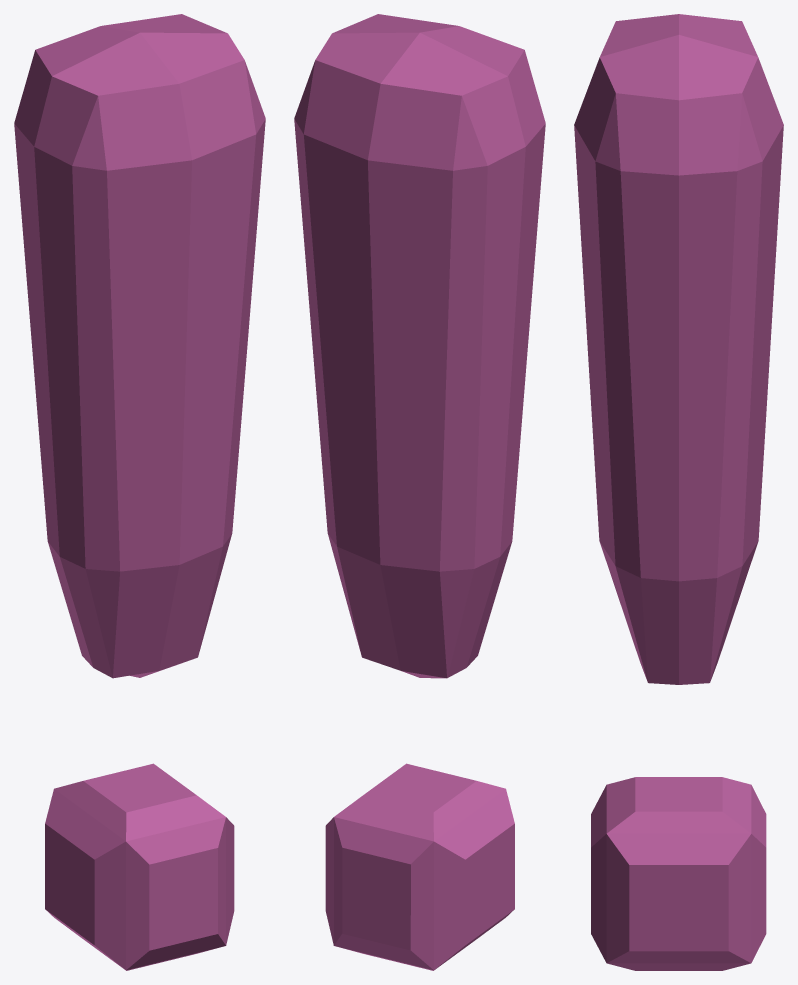
Rendered from exclamation_mark_rose.fbx.
The picture shows the model from 3 angles, left to right: view 1: azimuth 30°, elevation 25°; view 2: azimuth 150°, elevation 25°; view 3: azimuth 270°, elevation 25°; orthographic projection.
Parts seen in each view (by area): view 1: exclamation_mark; view 2: exclamation_mark; view 3: exclamation_mark.
Part boxes in pixels (<box>): exclamation_mark: <box>14,14,265,970</box>; exclamation_mark: <box>294,14,545,970</box>; exclamation_mark: <box>574,14,783,970</box>.
Bounding box in the file's own units: 9.95 × 41.08 × 8.5.
